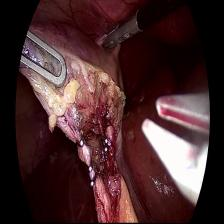Clipper: (138, 87, 214, 206)
Grasper: (20, 30, 68, 88), (98, 15, 139, 52)
